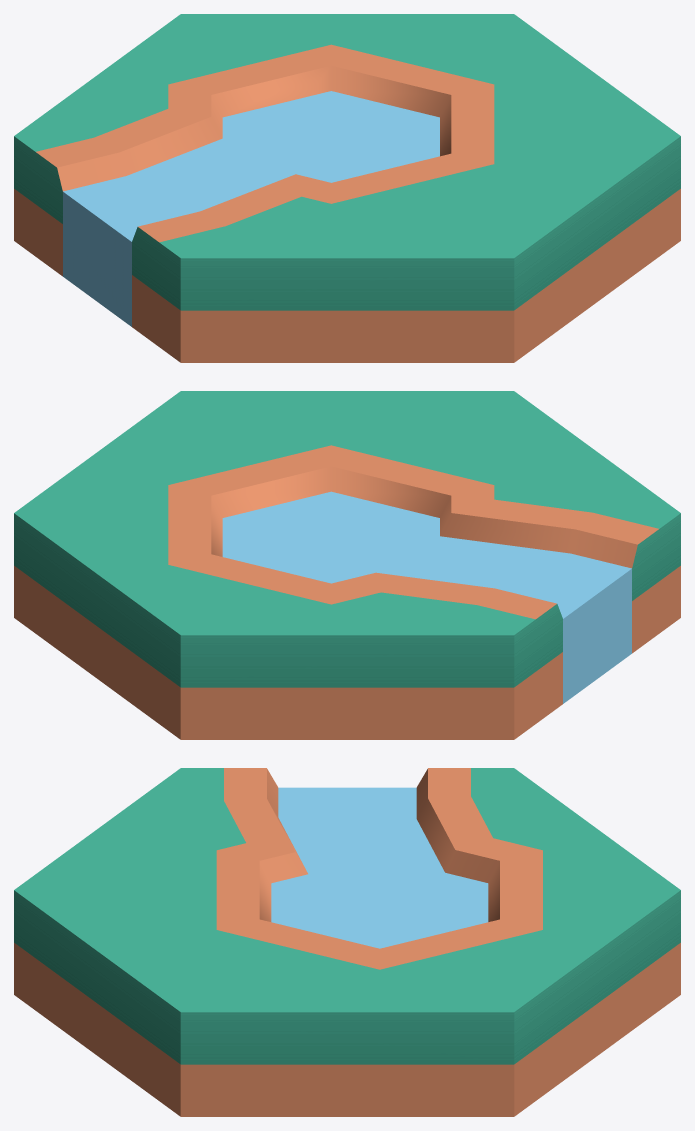
The model's file is river-start.glb.
The picture shows the model from 3 angles, top to bottom: view 1: azimuth 30°, elevation 25°; view 2: azimuth 150°, elevation 25°; view 3: azimuth 270°, elevation 25°; orthographic projection.
Visible parts, largest first — view 1: river-start; view 2: river-start; view 3: river-start.
Boxes of the visible parts, bbox=[...] form: river-start: bbox=[14, 14, 680, 362]; river-start: bbox=[14, 391, 680, 739]; river-start: bbox=[14, 768, 680, 1116].
Bounding box in the file's own units: 1 × 0.2 × 1.15.
Materials: 1 (1 with a texture image).
